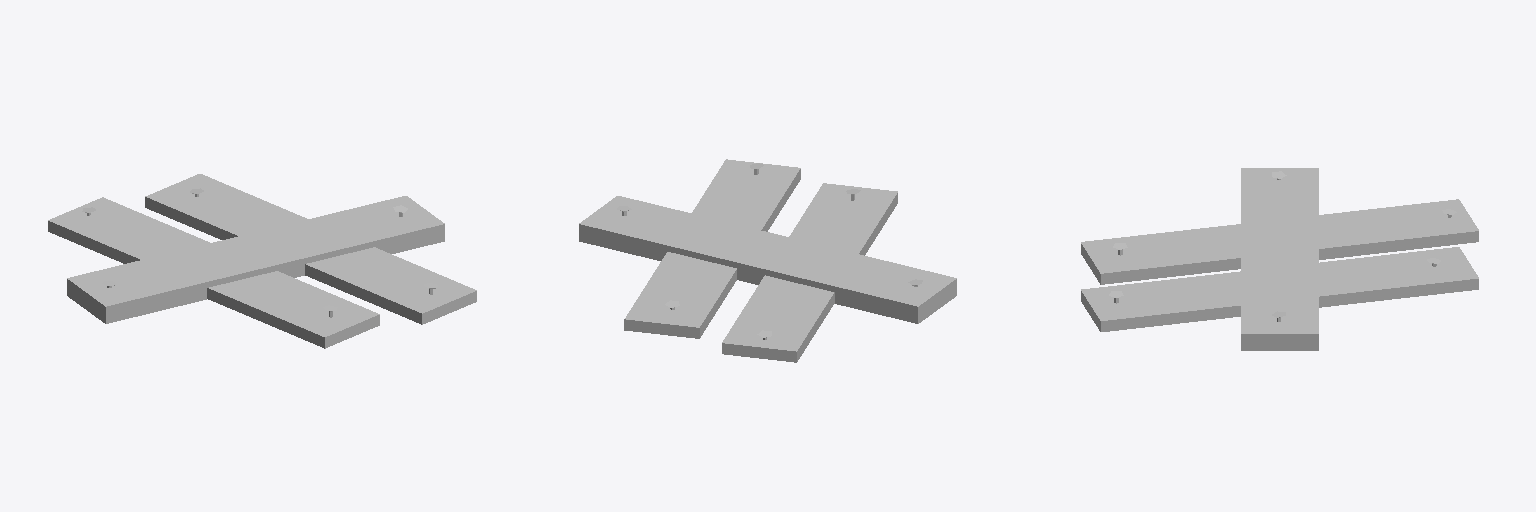
The model's file is Planks_V2.obj.
3 renders of one model, left to right at view 1: azimuth 30°, elevation 25°; view 2: azimuth 150°, elevation 25°; view 3: azimuth 270°, elevation 25°, orthographic.
Parts seen in each view (by area): view 1: Plank_V2 Plank_2; view 2: Plank_V2 Plank_2; view 3: Plank_V2 Plank_2, Plank_2 Nails_V2.
Boxes of the visible parts, box(x1,y1,x2,y2) form: Plank_V2 Plank_2: box(48, 174, 476, 348); Plank_V2 Plank_2: box(579, 159, 956, 362); Plank_V2 Plank_2: box(1081, 168, 1478, 350); Plank_2 Nails_V2: box(1109, 171, 1456, 321).
Size of the model in its own units: 137 by 9.7 by 139.